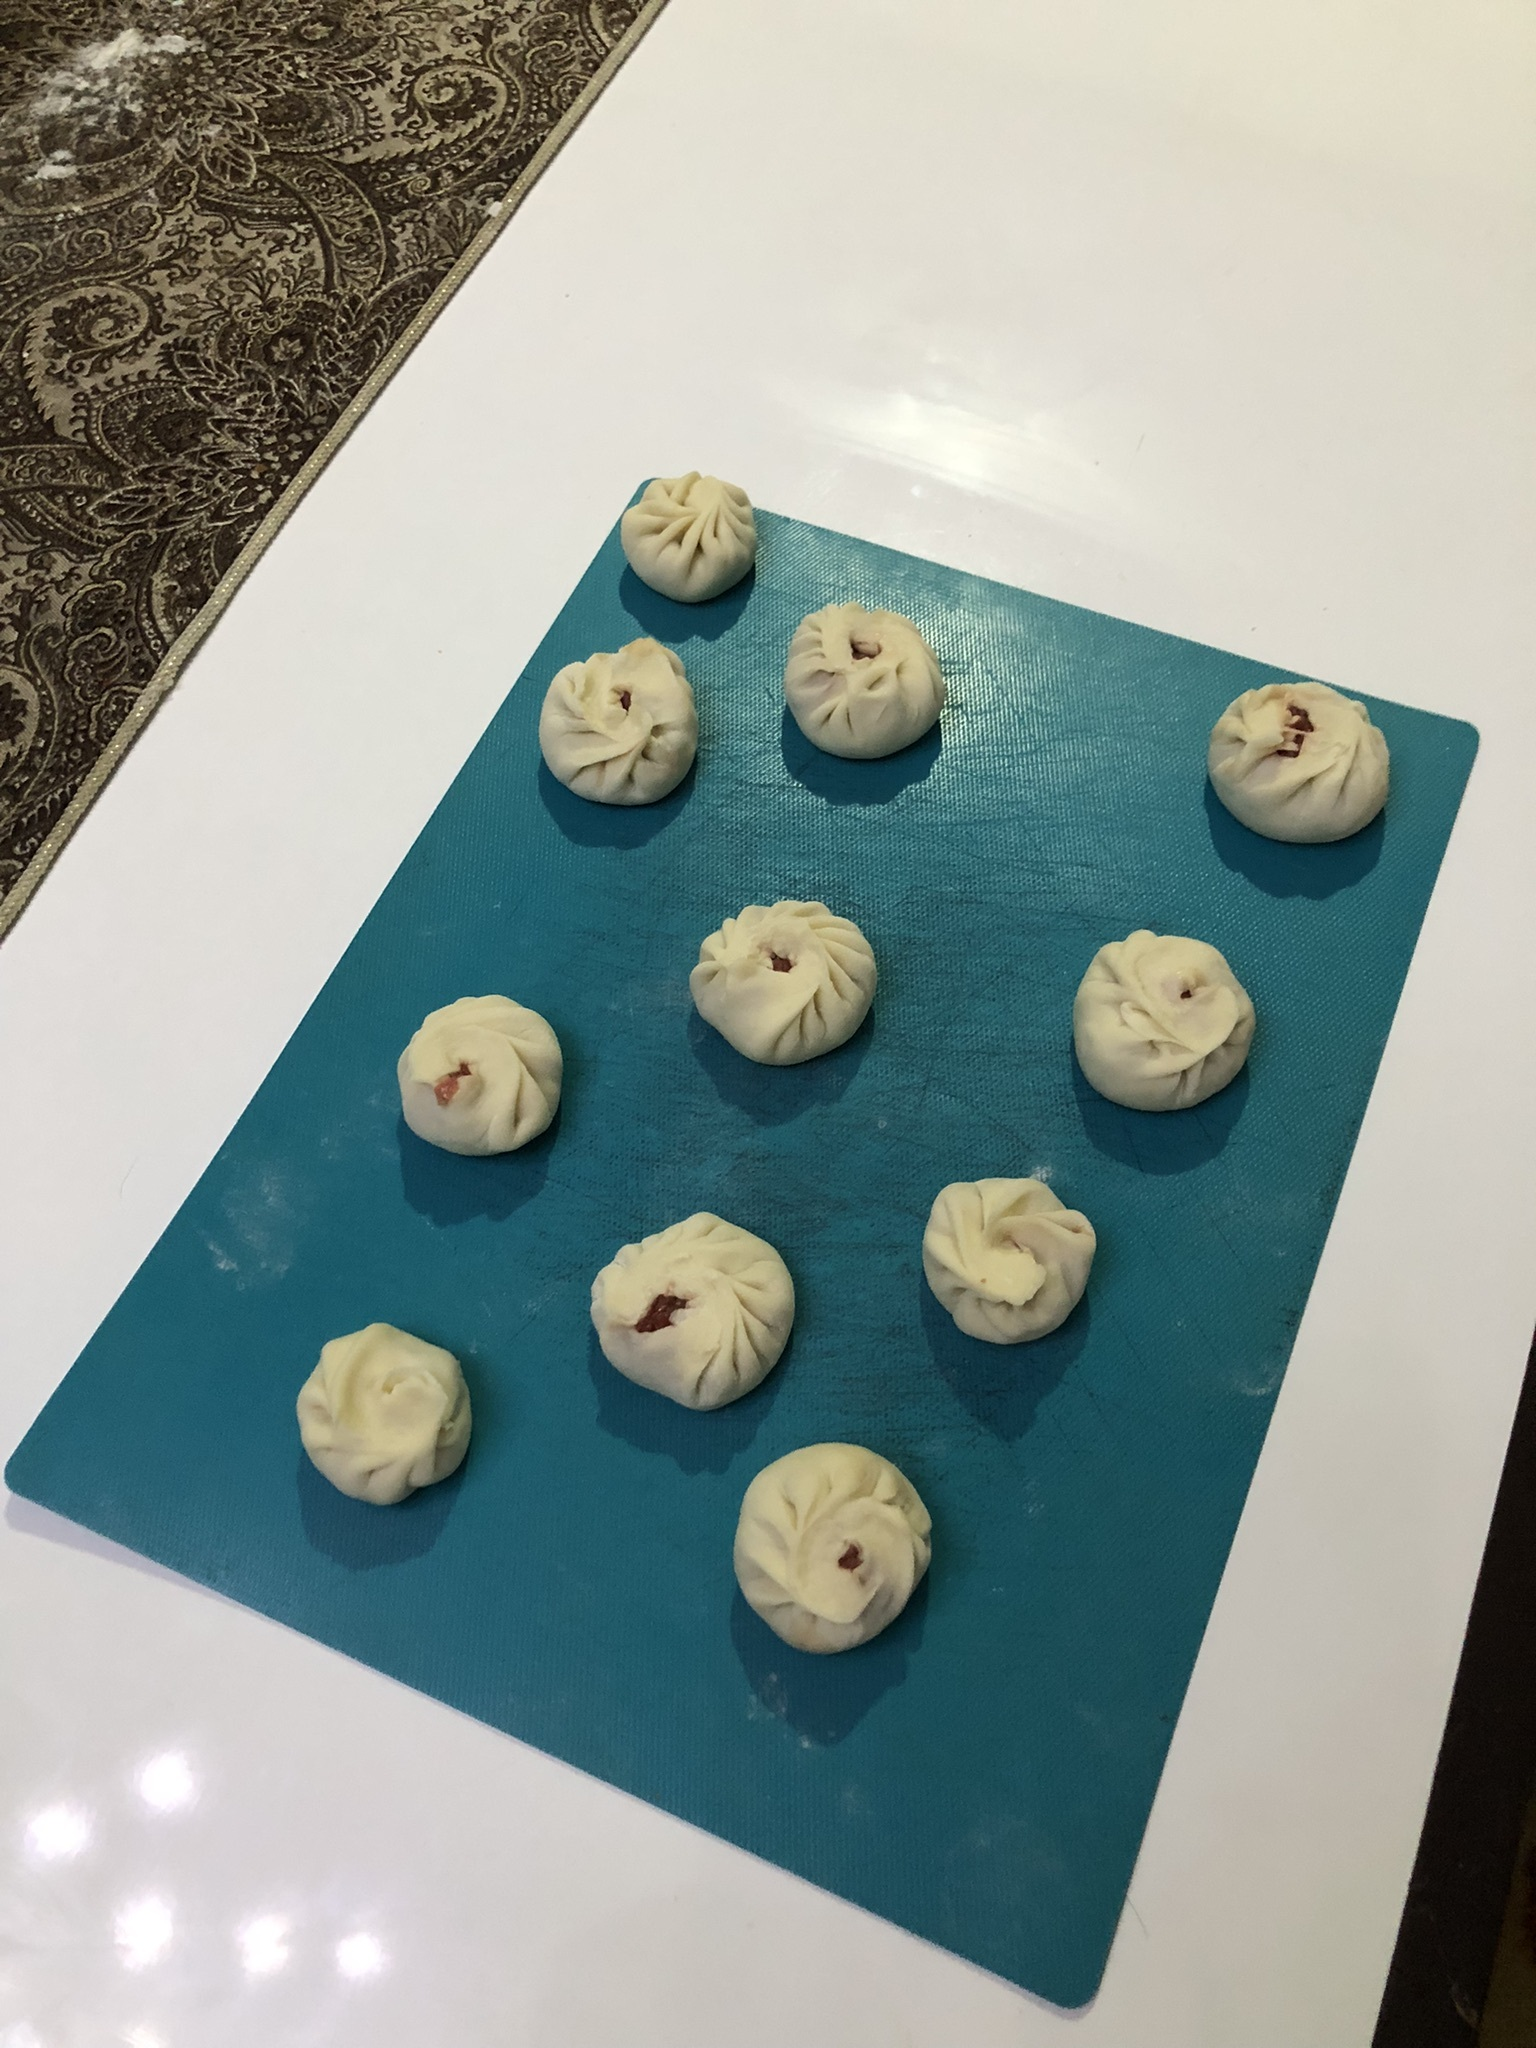buuz: (726, 1435, 950, 1667), (581, 1205, 807, 1419), (1060, 921, 1262, 1121), (289, 1313, 484, 1517), (913, 1171, 1120, 1358), (684, 892, 891, 1072), (1199, 674, 1404, 853), (532, 632, 710, 813), (390, 987, 570, 1164), (774, 598, 962, 766), (611, 464, 766, 606)
